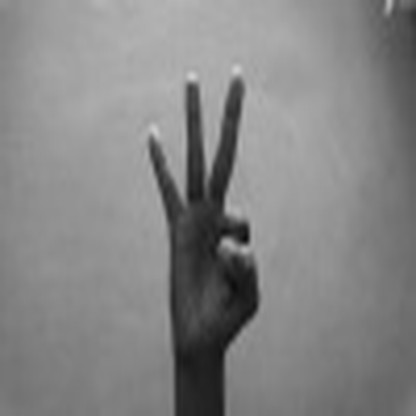f: (124, 63, 286, 342)
